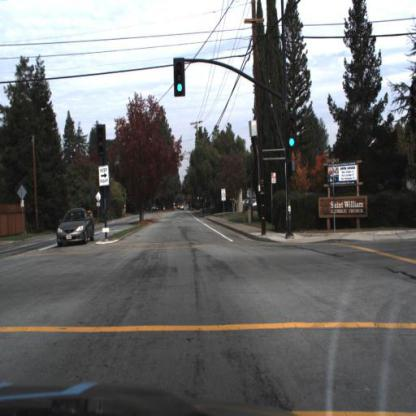car: (57, 205, 98, 246), (56, 206, 98, 246)
trafficLight-Green: (285, 113, 300, 156), (174, 56, 186, 98), (174, 57, 186, 97), (288, 108, 297, 153)
